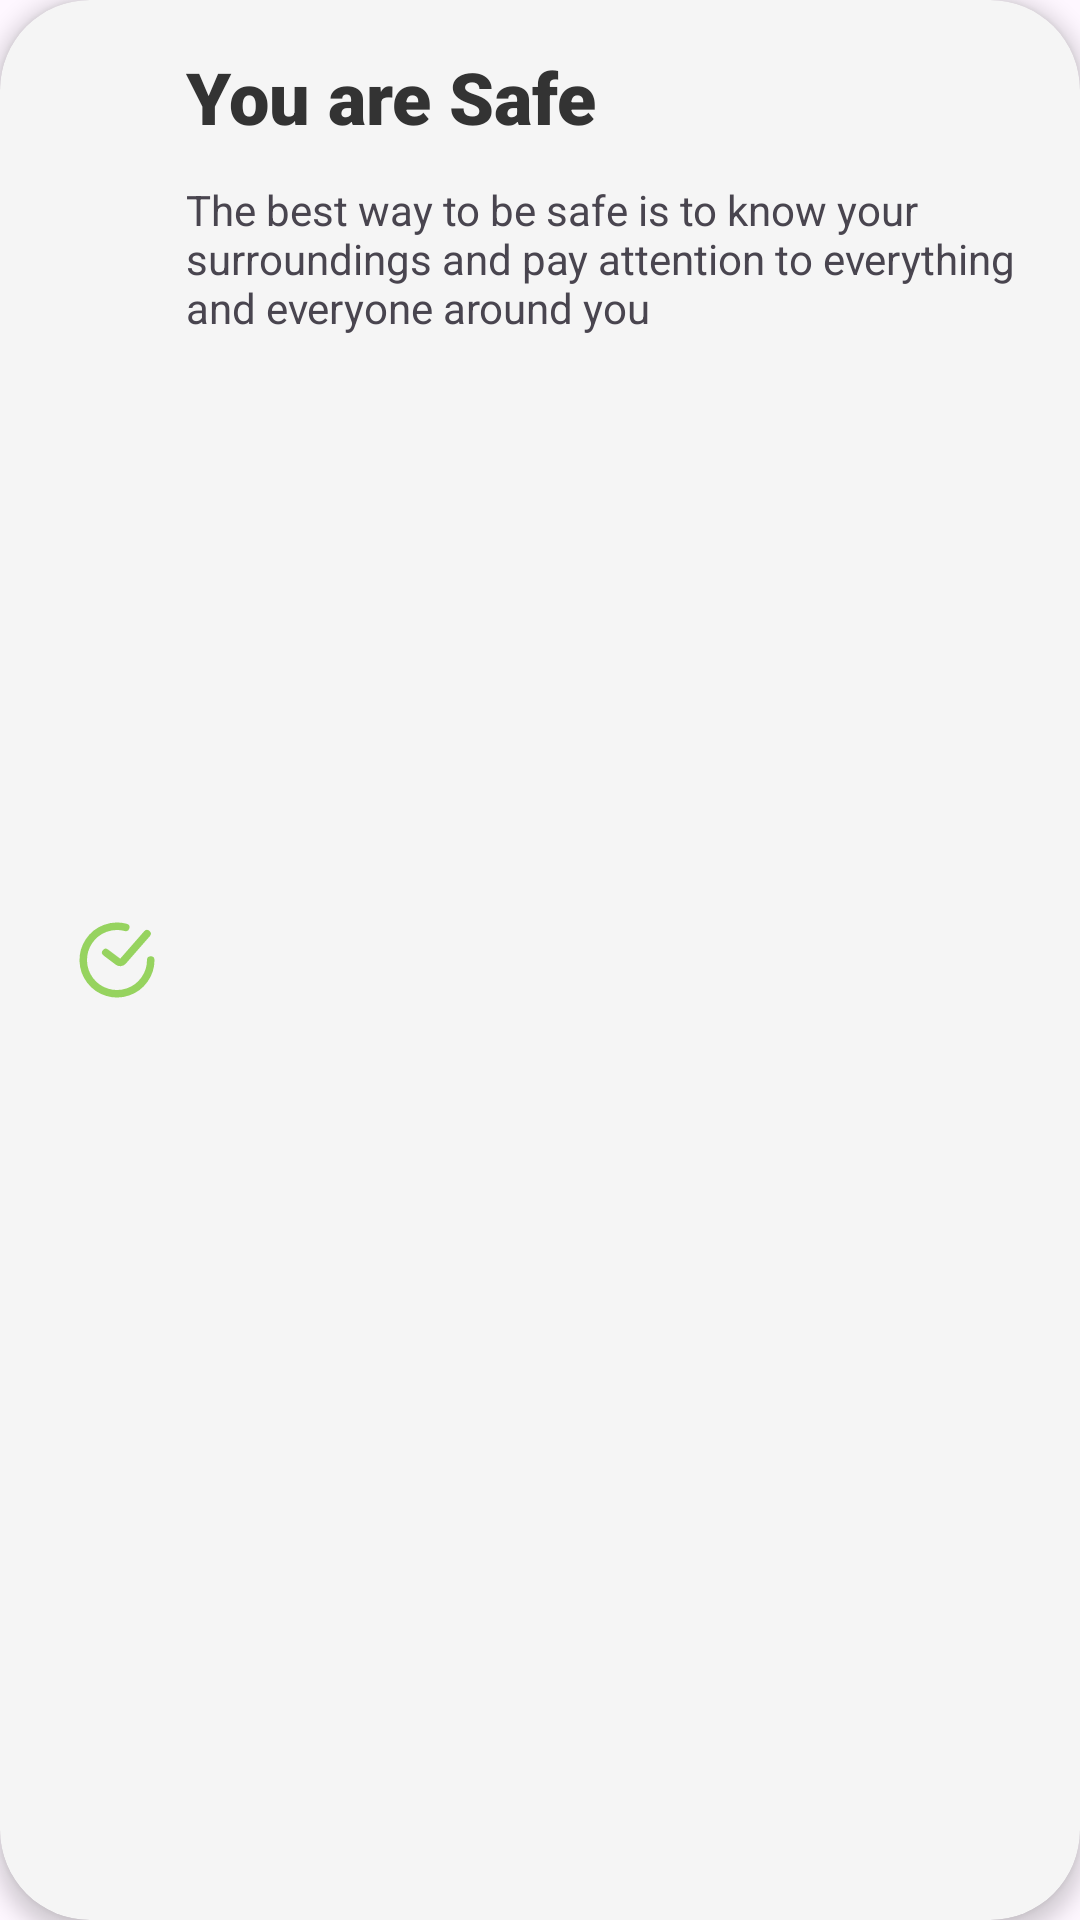

Icons on this 1080w x 1920h Android screen, each with the point to tap as (x=x, y=y):
done ring round: (x=117, y=960)
